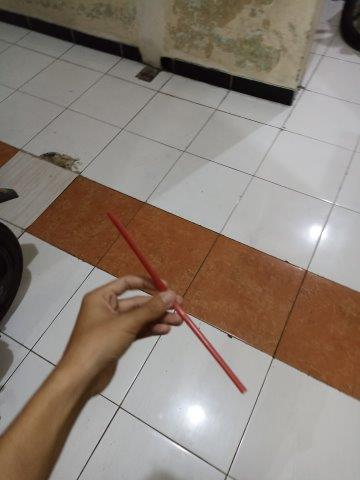sedotan: (106, 210, 245, 392)
